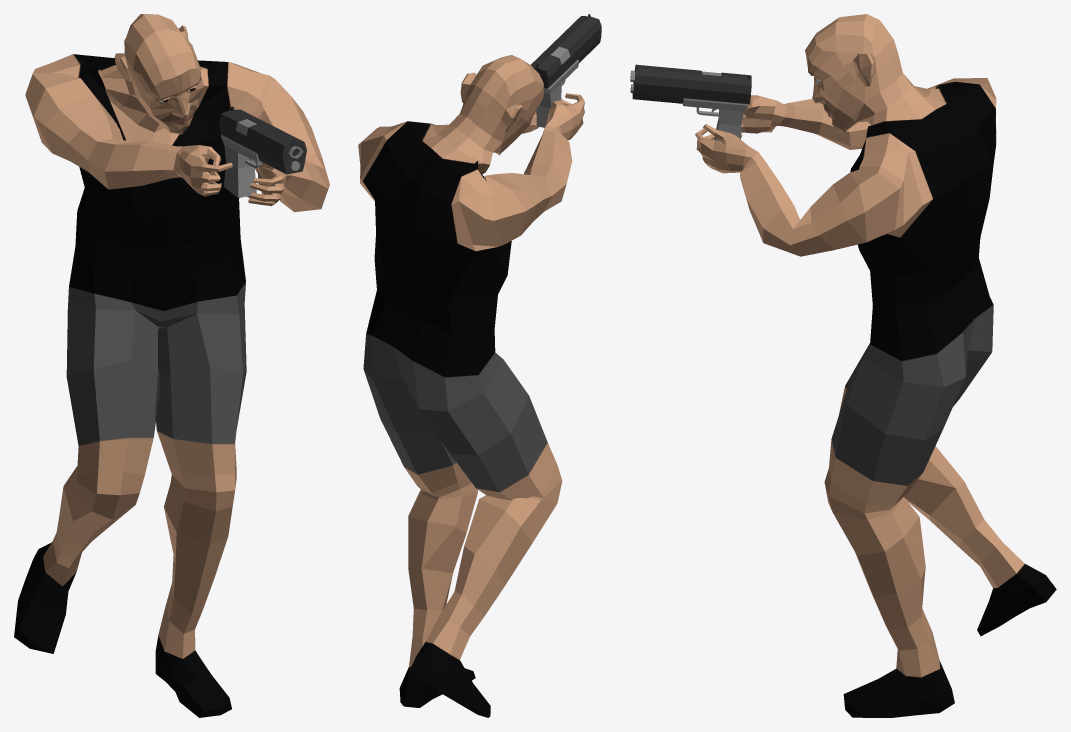
File: PlayerWalk(10).obj
3 views of the same model, side by side, from view 1: azimuth 30°, elevation 25°; view 2: azimuth 150°, elevation 25°; view 3: azimuth 270°, elevation 25° (orthographic). The views are drawn at different scales.
Parts seen in each view (by area): view 1: Plane002, Box003; view 2: Plane002, Box003; view 3: Plane002, Box003.
Part boxes in pixels (left/top/right/bottom): Plane002: left=14, top=14, right=329, bottom=717; Box003: left=219, top=106, right=306, bottom=197; Plane002: left=358, top=55, right=584, bottom=717; Box003: left=531, top=14, right=601, bottom=127; Plane002: left=695, top=14, right=1056, bottom=717; Box003: left=630, top=64, right=751, bottom=140.
Size of the model in its own units: 570 by 1716 by 995.
